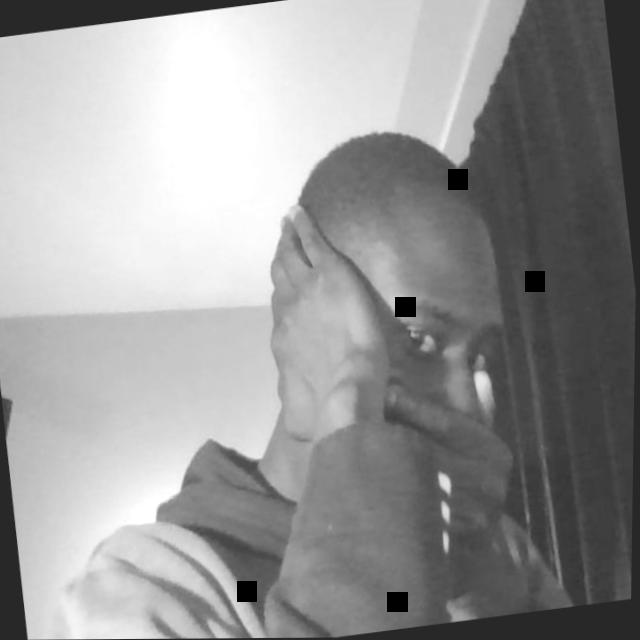NO-Mask: (371, 277, 514, 441)
